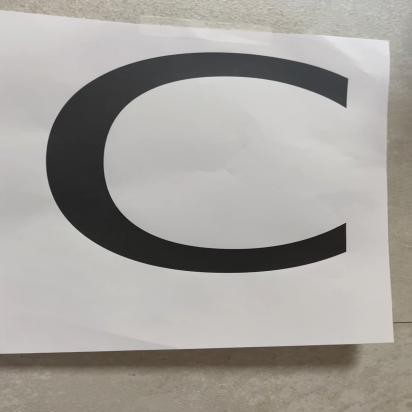seat: (4, 0, 412, 378)
